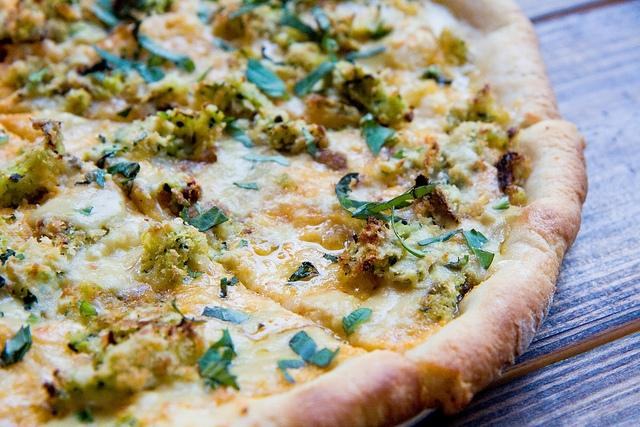broccoli: (0, 117, 81, 210), (133, 218, 208, 292), (94, 335, 174, 395), (191, 76, 269, 128), (342, 69, 408, 126), (264, 120, 330, 154), (420, 281, 462, 324), (284, 42, 330, 73), (434, 27, 469, 67), (14, 16, 45, 44), (65, 86, 93, 116), (96, 72, 123, 100), (156, 132, 185, 156)
